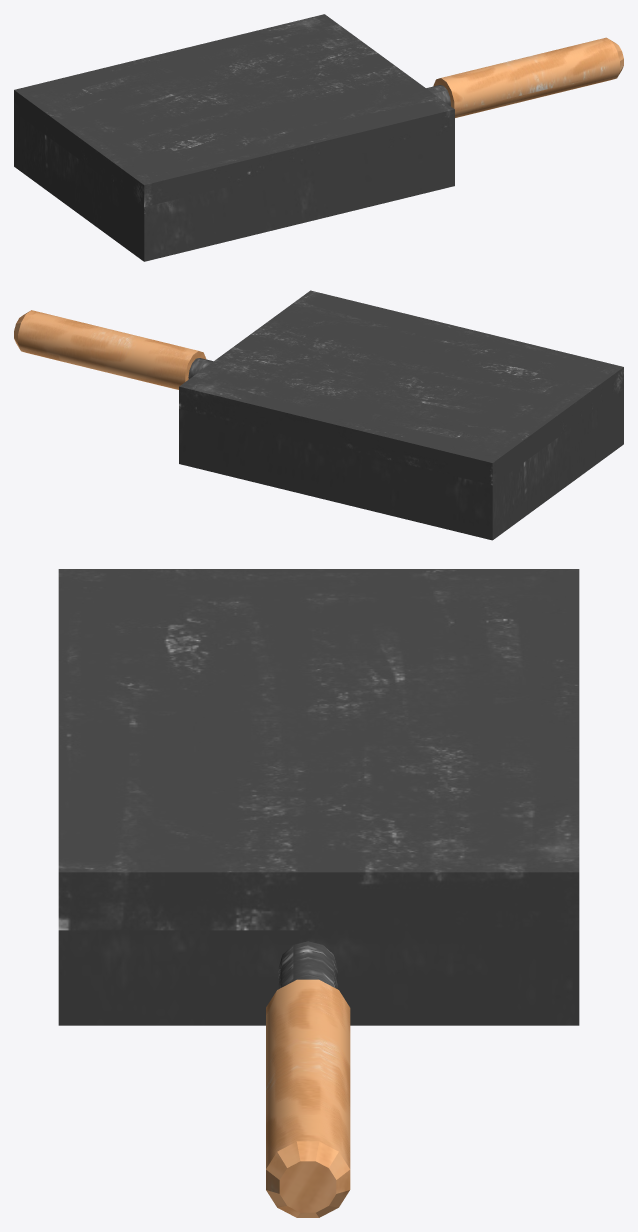
Rendered from FishBox.fbx.
3 views of the same model, one above another, from view 1: azimuth 30°, elevation 25°; view 2: azimuth 150°, elevation 25°; view 3: azimuth 270°, elevation 25° (orthographic). The views are drawn at different scales.
Visible parts, largest first — view 1: Box002, Cylinder001; view 2: Box002, Cylinder001; view 3: Box002, Cylinder001.
Part boxes in pixels (bbox=[...]): Box002: bbox=[14, 14, 454, 213]; Cylinder001: bbox=[14, 37, 623, 261]; Box002: bbox=[179, 290, 623, 485]; Cylinder001: bbox=[14, 310, 623, 540]; Box002: bbox=[58, 569, 579, 930]; Cylinder001: bbox=[58, 930, 579, 1217].
Size of the model in its own units: 192 by 26.24 by 80.76.
1 material, 1 textured.
